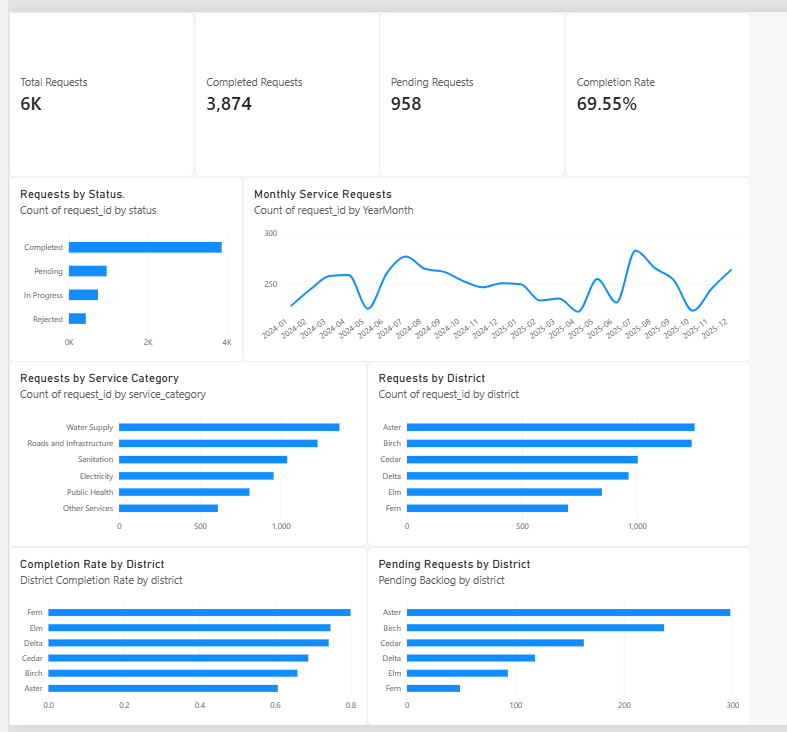

What the dashboard file says about the page in this screenshot:
{"tool":"powerbi","page":{"name":"Page 1","canvas":[1920,1080],"ordinal":0},"visuals":[{"type":"cardVisual","fields":{"Data":["service_requests.Pending Requests"]},"box":[562,0,280,250],"z":0},{"type":"cardVisual","fields":{"Data":["service_requests.Total Requests"]},"box":[0,0,280,250],"z":1000},{"type":"cardVisual","fields":{"Data":["service_requests.Completed Requests"]},"box":[282,0,280,250],"z":2000},{"type":"cardVisual","fields":{"Data":["service_requests.Completion Rate"]},"box":[842,0,280,250],"z":3000},{"type":"clusteredBarChart","title":"Requests by Status.","fields":{"Category":["service_requests.status"],"Y":["CountNonNull(service_requests.request_id)"]},"box":[0,250,354,280],"z":4000},{"type":"lineChart","title":"Monthly Service Requests","fields":{"Category":["service_requests.YearMonth"],"Y":["CountNonNull(service_requests.request_id)"]},"box":[354,250,768,280],"z":5000},{"type":"clusteredBarChart","title":"Requests by Service Category","fields":{"Category":["service_requests.service_category"],"Y":["CountNonNull(service_requests.request_id)"]},"box":[0,530,542,280],"z":5001},{"type":"clusteredBarChart","title":"Requests by District","fields":{"Category":["service_requests.district"],"Y":["CountNonNull(service_requests.request_id)"]},"box":[542,530,580,280],"z":5002},{"type":"clusteredBarChart","title":"Completion Rate by District","fields":{"Category":["service_requests.district"],"Y":["service_requests.District Completion Rate"]},"box":[0,810,542.5,270],"z":5003},{"type":"clusteredBarChart","title":"Pending Requests by District","fields":{"Category":["service_requests.district"],"Y":["service_requests.Pending Backlog"]},"box":[542.5,810,580,270],"z":5004}]}

Visuals, with their boxes on the page's 1920x1080 design canvas (x1, y1, x2, y2). These are canvas units, not pixel positions in the 787x732 screenshot, which may show the page scaled, cropped or inside an application window:
cardVisual - service_requests.Pending Requests: [562, 0, 842, 250]
cardVisual - service_requests.Total Requests: [0, 0, 280, 250]
cardVisual - service_requests.Completed Requests: [282, 0, 562, 250]
cardVisual - service_requests.Completion Rate: [842, 0, 1122, 250]
"Requests by Status." clusteredBarChart: [0, 250, 354, 530]
"Monthly Service Requests" lineChart: [354, 250, 1122, 530]
"Requests by Service Category" clusteredBarChart: [0, 530, 542, 810]
"Requests by District" clusteredBarChart: [542, 530, 1122, 810]
"Completion Rate by District" clusteredBarChart: [0, 810, 542, 1080]
"Pending Requests by District" clusteredBarChart: [542, 810, 1122, 1080]
